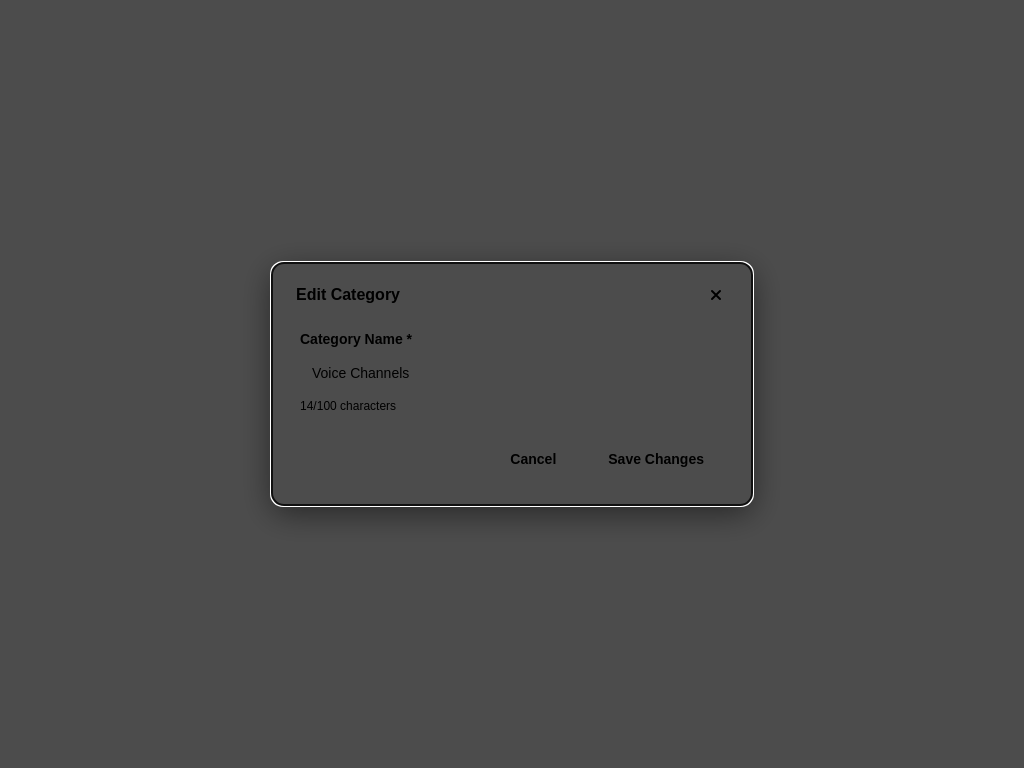
Scenario: EditCategoryModal › shows validation error for empty name
Clear the field showing "Voice Channels" at (512, 373), box [300, 355, 724, 391]
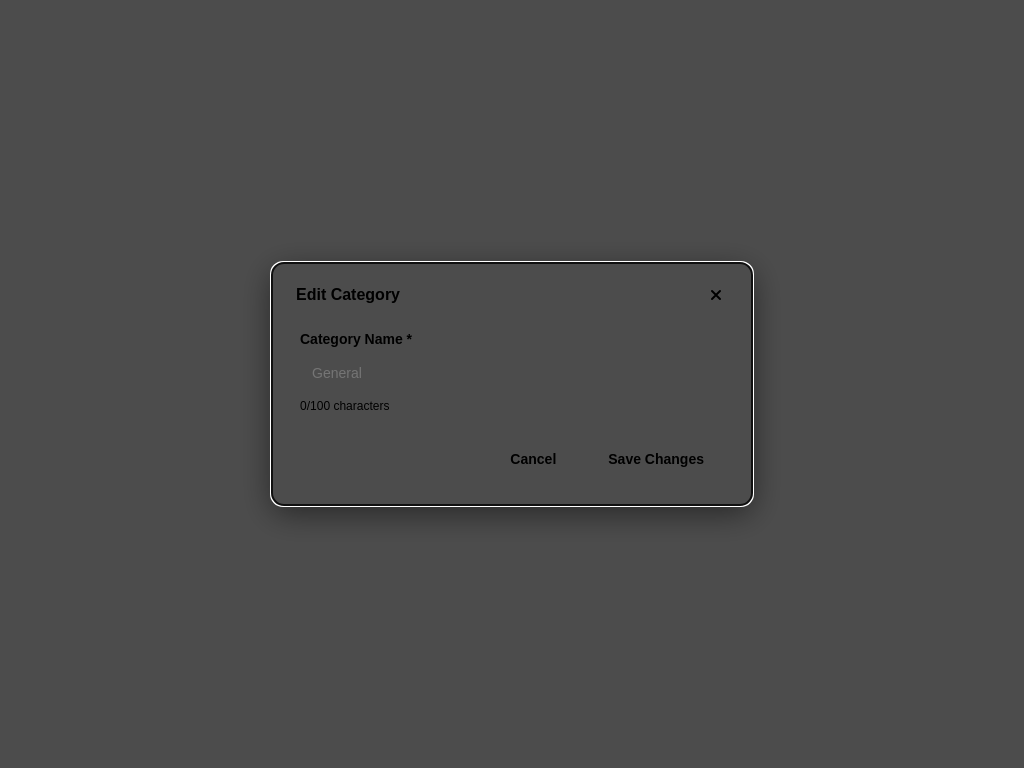
Click the button "Save Changes" at (656, 459), box [588, 441, 724, 477]
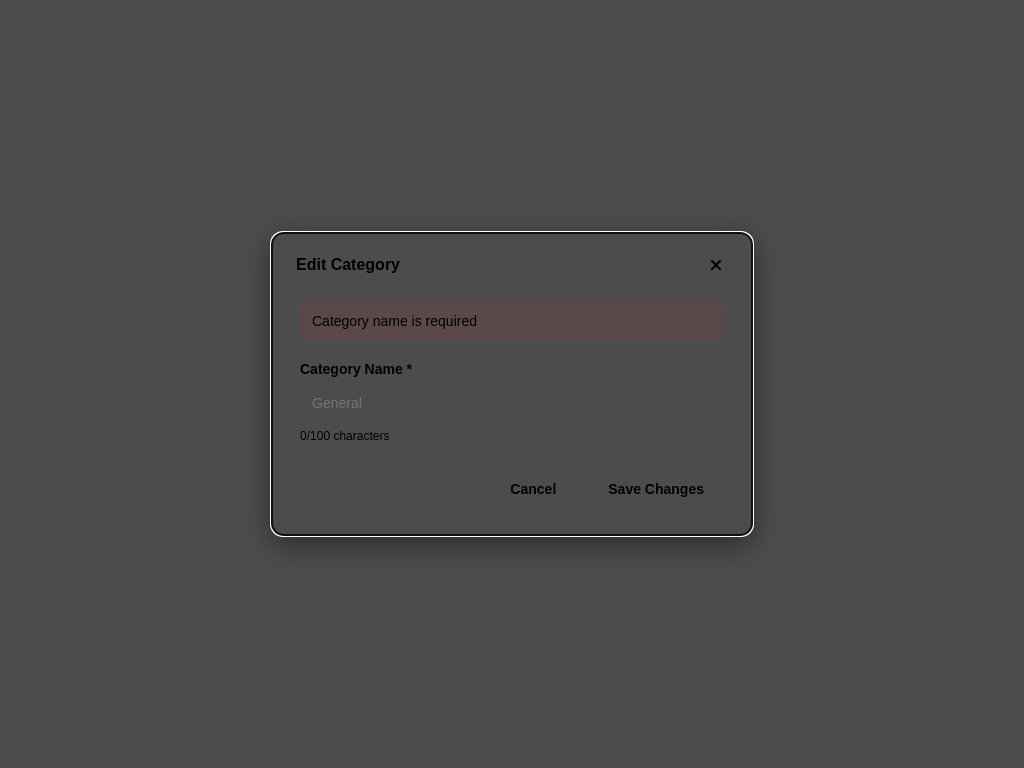
Now the text "Category name is required" is shown, box [300, 301, 724, 341]
